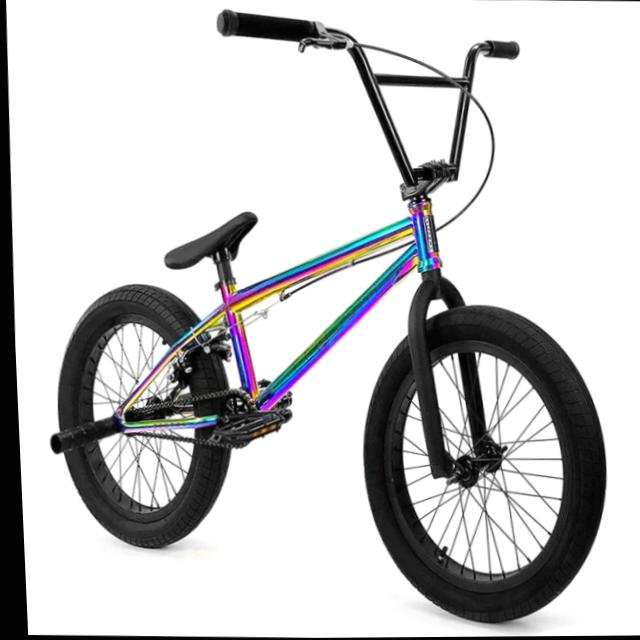bmx-bike: (26, 3, 618, 629)
